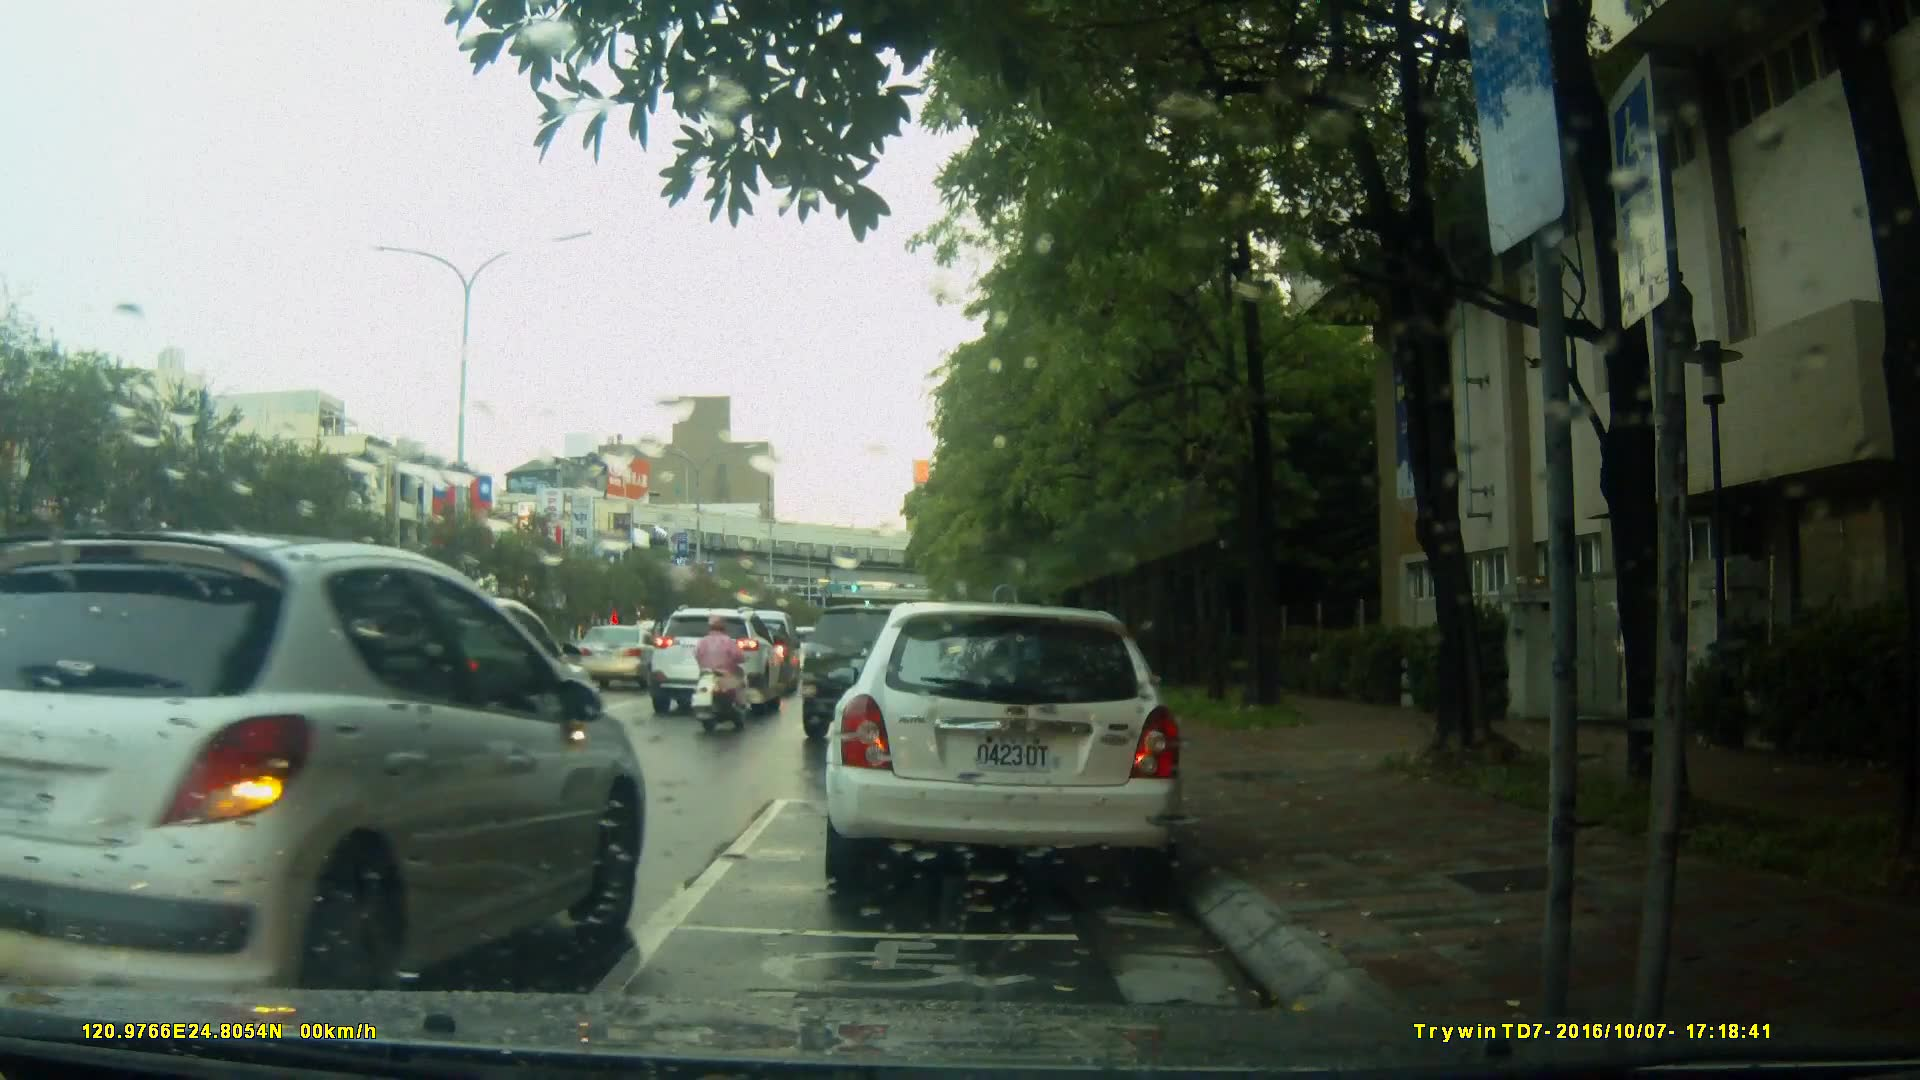rider: (688, 608, 749, 738)
vehicle: (1, 526, 665, 994), (820, 602, 1188, 898), (798, 602, 1006, 752), (649, 607, 785, 720), (565, 623, 670, 692)
